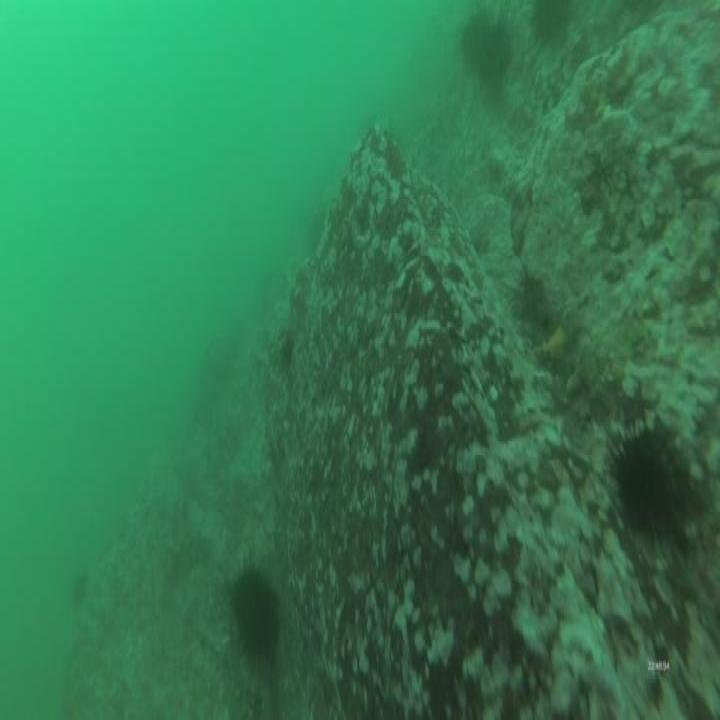echinus: (602, 409, 681, 546), (221, 560, 290, 681), (458, 6, 512, 84), (528, 0, 576, 44), (65, 569, 93, 617)
